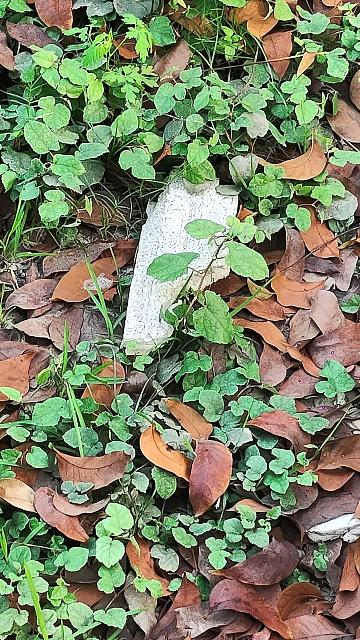cocksheet: (111, 169, 257, 361)
